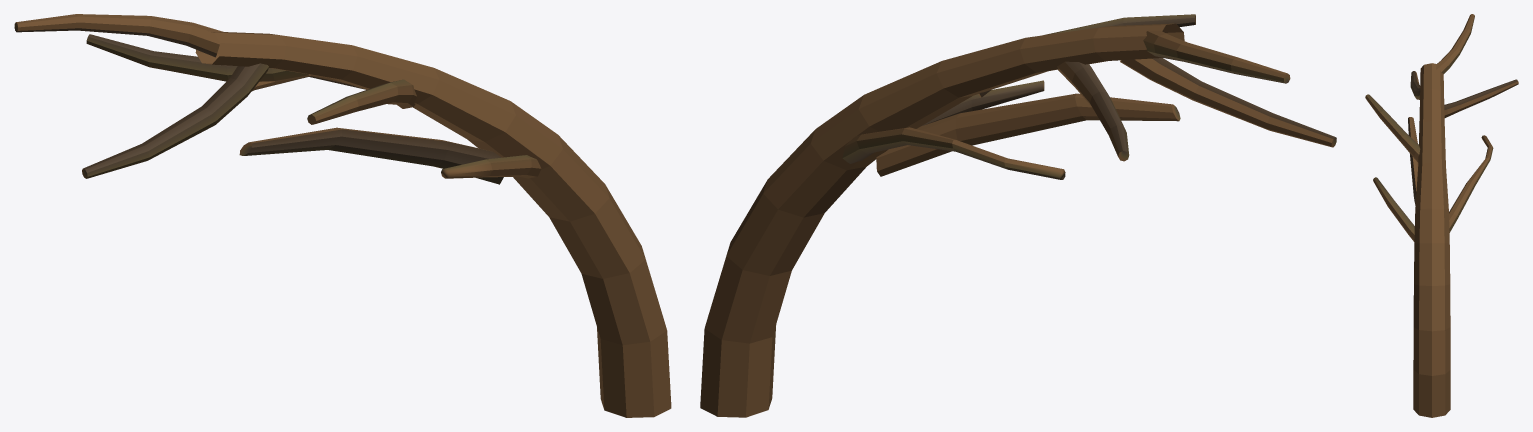
File: Tree80Bend_Winter.fbx
3 views of the same model, side by side, from view 1: azimuth 30°, elevation 25°; view 2: azimuth 150°, elevation 25°; view 3: azimuth 270°, elevation 25° (orthographic). The views are drawn at different scales.
Parts seen in each view (by area): view 1: TreeBend80.004; view 2: TreeBend80.004; view 3: TreeBend80.004.
Part boxes in pixels (box(x1,y1,x2,y2)): TreeBend80.004: box(14, 14, 671, 417); TreeBend80.004: box(700, 14, 1336, 417); TreeBend80.004: box(1365, 14, 1518, 417).
Size of the model in its own units: 651 by 502 by 277.
